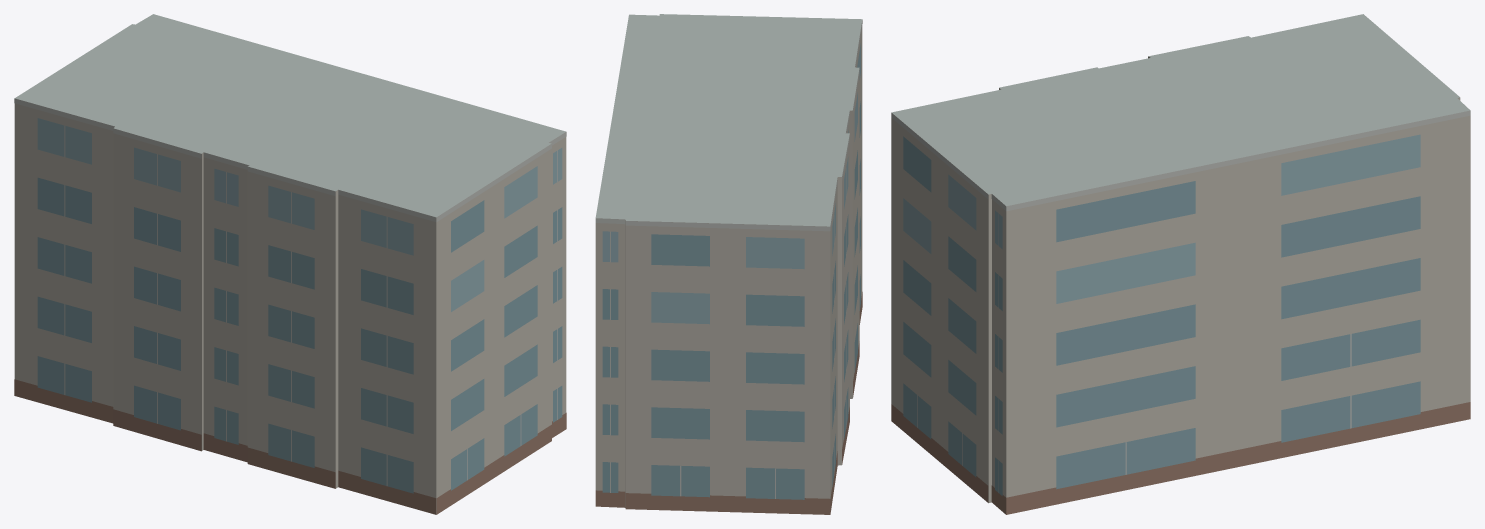
Rendered from survey-upis-32836554.glb.
The picture shows the model from 3 angles, left to right: view 1: azimuth 30°, elevation 25°; view 2: azimuth 150°, elevation 25°; view 3: azimuth 270°, elevation 25°; orthographic projection. The views are drawn at different scales.
Parts seen in each view (by area): view 1: survey-upis-32836554.tmp; view 2: survey-upis-32836554.tmp; view 3: survey-upis-32836554.tmp.
Boxes of the visible parts, left/top/right/bottom form: survey-upis-32836554.tmp: left=14, top=14, right=566, bottom=514; survey-upis-32836554.tmp: left=595, top=14, right=862, bottom=514; survey-upis-32836554.tmp: left=891, top=14, right=1470, bottom=514.
Size of the model in its own units: 19.65 by 14.7 by 25.02.
